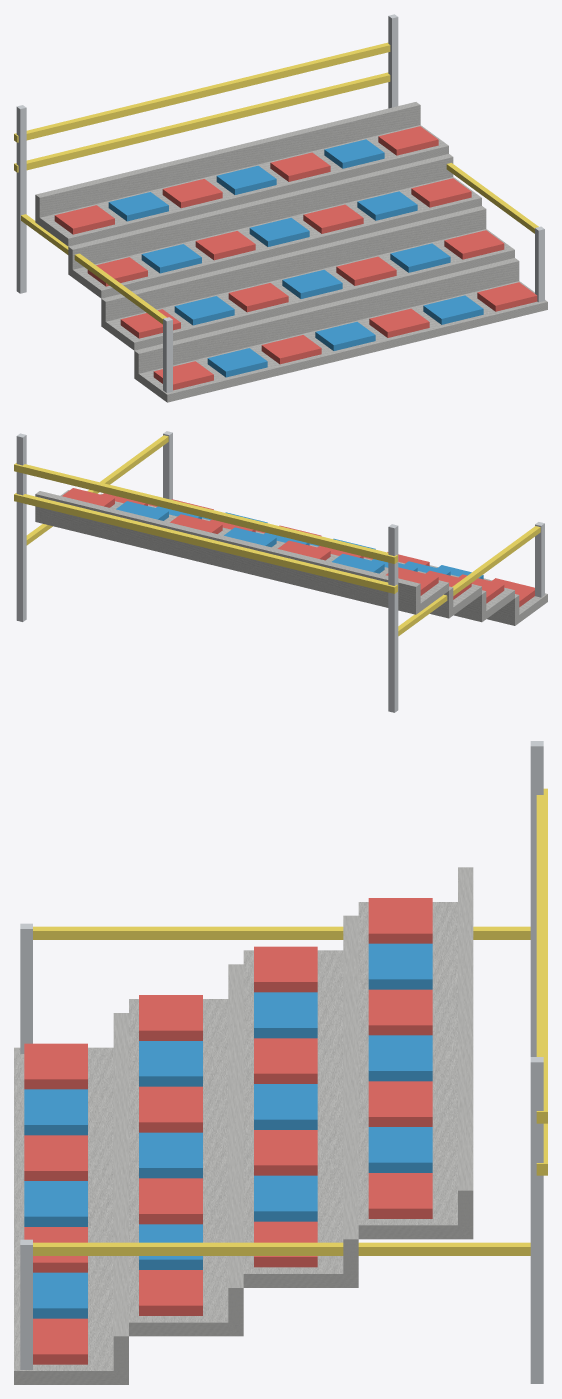
Rendered from go-kart-track-and-pit-lane-grandstand-section-c1b464f4__34357.glb.
3 views of the same model, one above another, from view 1: azimuth 30°, elevation 25°; view 2: azimuth 150°, elevation 25°; view 3: azimuth 270°, elevation 25° (orthographic). The views are drawn at different scales.
Visible parts, largest first — view 1: grandstand-section-concrete, grandstand-section-red, grandstand-section-azure, grandstand-section-canary, grandstand-section-steel; view 2: grandstand-section-concrete, grandstand-section-canary, grandstand-section-steel, grandstand-section-red, grandstand-section-azure; view 3: grandstand-section-concrete, grandstand-section-red, grandstand-section-azure, grandstand-section-canary, grandstand-section-steel.
Part boxes in pixels (box(x1,y1,x2,y2)): grandstand-section-concrete: box(35, 102, 547, 402); grandstand-section-red: box(54, 126, 537, 390); grandstand-section-azure: box(108, 139, 483, 377); grandstand-section-canary: box(14, 42, 538, 324); grandstand-section-steel: box(16, 14, 544, 392); grandstand-section-concrete: box(35, 490, 547, 625); grandstand-section-canary: box(14, 435, 540, 636); grandstand-section-steel: box(16, 431, 544, 712); grandstand-section-red: box(62, 488, 534, 607); grandstand-section-azure: box(116, 501, 483, 579); grandstand-section-concrete: box(14, 867, 473, 1384); grandstand-section-red: box(24, 898, 432, 1364); grandstand-section-azure: box(24, 943, 432, 1318); grandstand-section-canary: box(33, 788, 547, 1255); grandstand-section-steel: box(20, 741, 543, 1383).
Bounding box in the file's own units: 6 × 2.78 × 4.19.
Materials: 5 (1 with a texture image).
